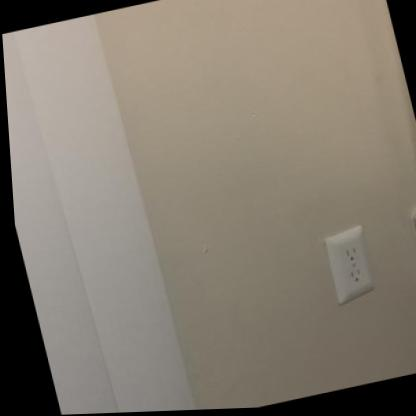OUTLET: (322, 226, 378, 303)
